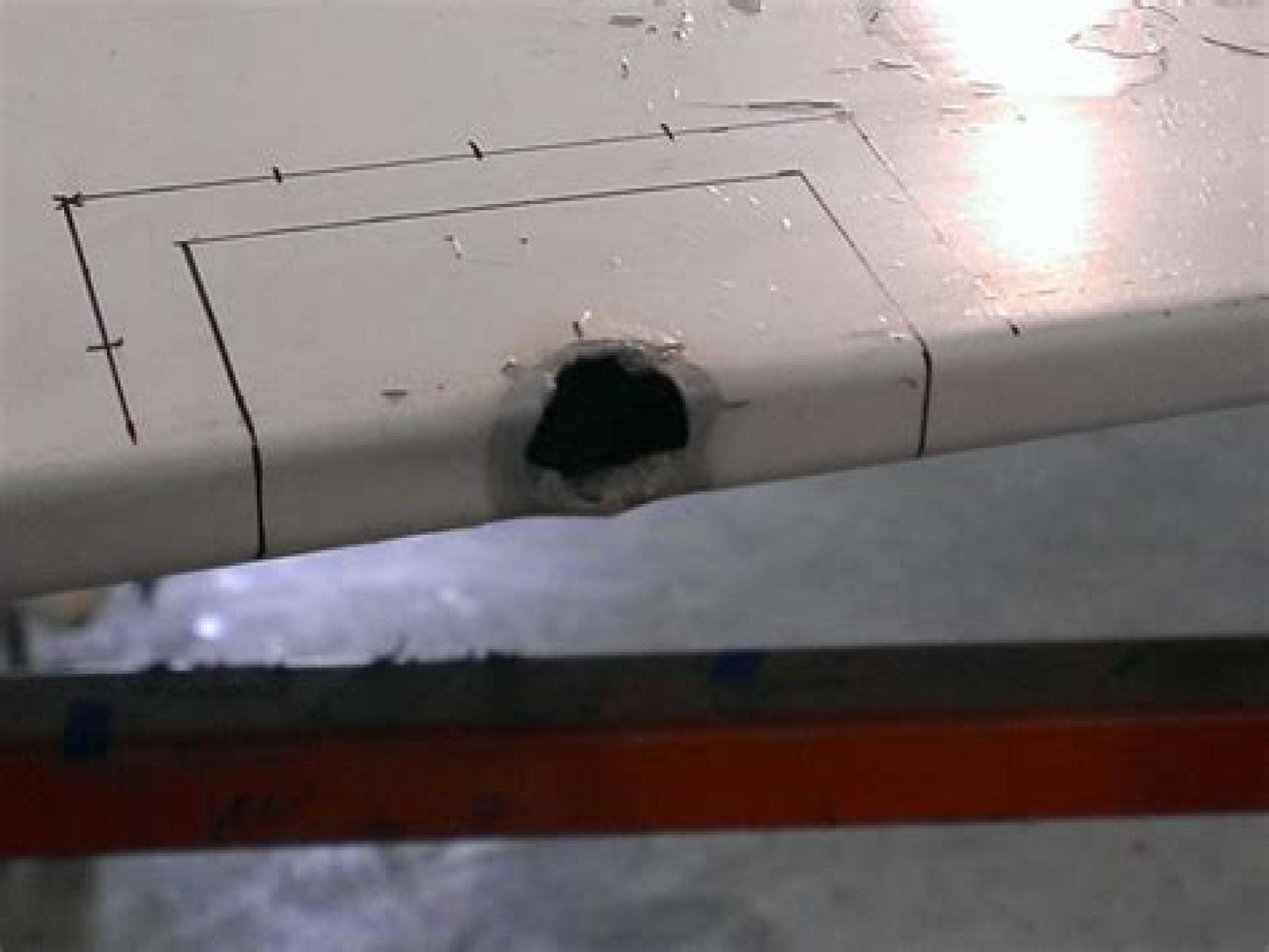Skin_Cover: (487, 337, 734, 513)
Wing_damage: (527, 352, 688, 479)
